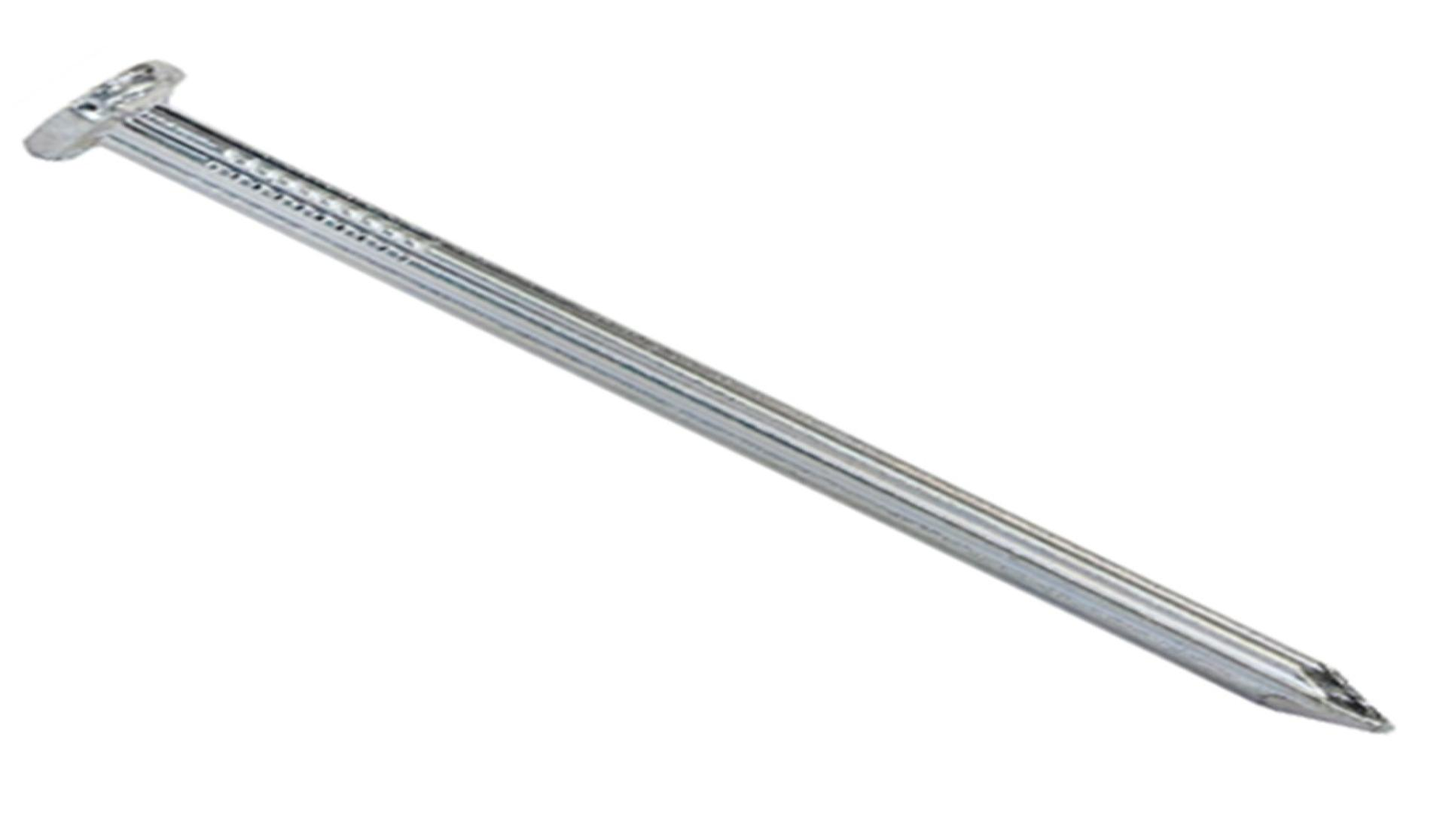nail: (0, 40, 1426, 774)
